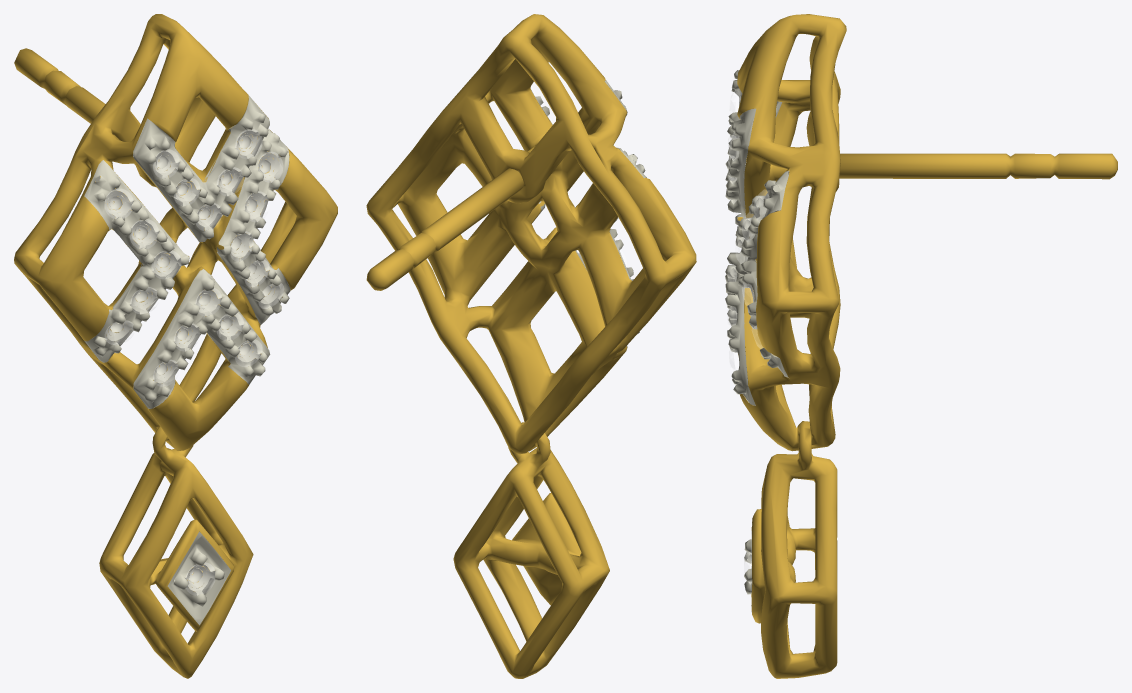
File: earring.gltf
The picture shows the model from 3 angles, left to right: view 1: azimuth 30°, elevation 25°; view 2: azimuth 150°, elevation 25°; view 3: azimuth 270°, elevation 25°; orthographic projection. The views are drawn at different scales.
Parts seen in each view (by area): view 1: 22DSANEST013SJ.002, 22DSANEST013SJ.001, 22DSANEST013SJ.003; view 2: 22DSANEST013SJ.002, 22DSANEST013SJ.001; view 3: 22DSANEST013SJ.002, 22DSANEST013SJ.001, 22DSANEST013SJ.003.
Boxes of the visible parts, box(x1,y1,x2,y2) form: 22DSANEST013SJ.002: box(14, 14, 337, 678); 22DSANEST013SJ.001: box(84, 94, 290, 625); 22DSANEST013SJ.003: box(104, 129, 283, 595); 22DSANEST013SJ.002: box(366, 14, 696, 678); 22DSANEST013SJ.001: box(469, 80, 646, 348); 22DSANEST013SJ.002: box(737, 14, 1117, 678); 22DSANEST013SJ.001: box(725, 70, 789, 611); 22DSANEST013SJ.003: box(727, 90, 768, 584).
Size of the model in its own units: 1.63 by 3.36 by 1.8.
